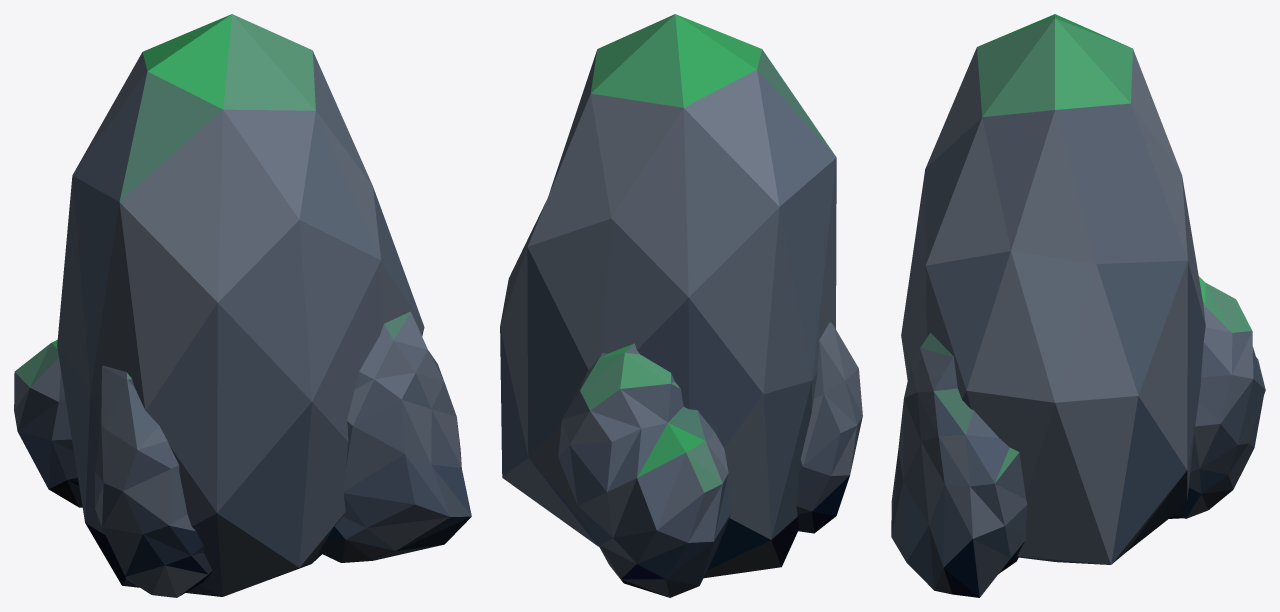
Rendered from batu_boulder_granite_517008.glb.
3 views of the same model, side by side, from view 1: azimuth 30°, elevation 25°; view 2: azimuth 150°, elevation 25°; view 3: azimuth 270°, elevation 25° (orthographic). The views are drawn at different scales.
Parts seen in each view (by area): view 1: Batu_Jeram_Sungai; view 2: Batu_Jeram_Sungai; view 3: Batu_Jeram_Sungai.
Part boxes in pixels (x1,y1,x2,y2): Batu_Jeram_Sungai: (14,14,471,597); Batu_Jeram_Sungai: (500,14,862,597); Batu_Jeram_Sungai: (891,14,1265,597).
Bounding box in the file's own units: 3.47 × 5.3 × 3.4.
